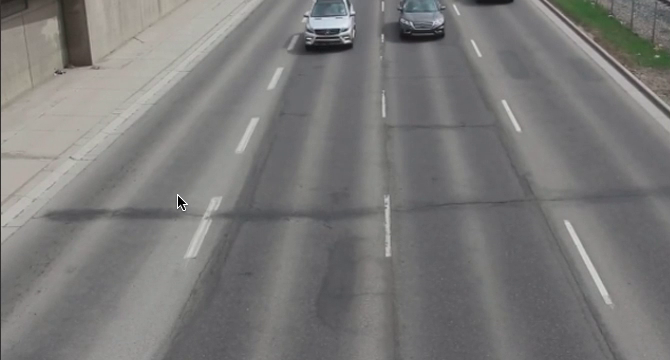car: (303, 1, 356, 51), (396, 1, 448, 43)
